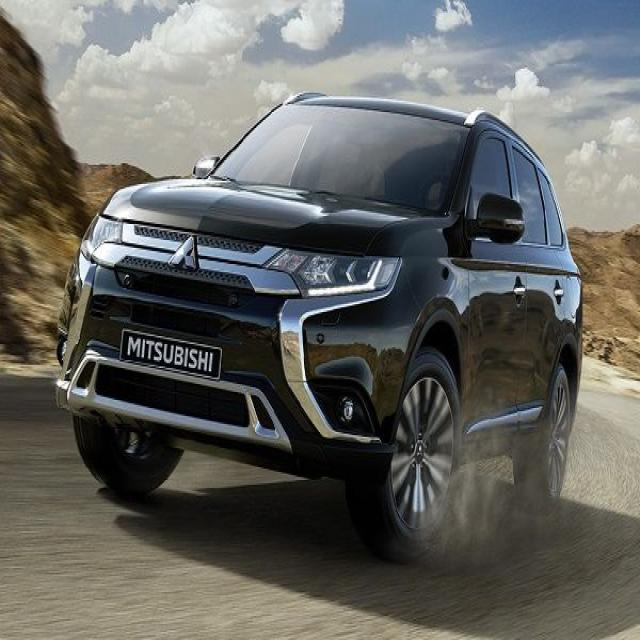light_vehicle: (52, 89, 586, 562)
